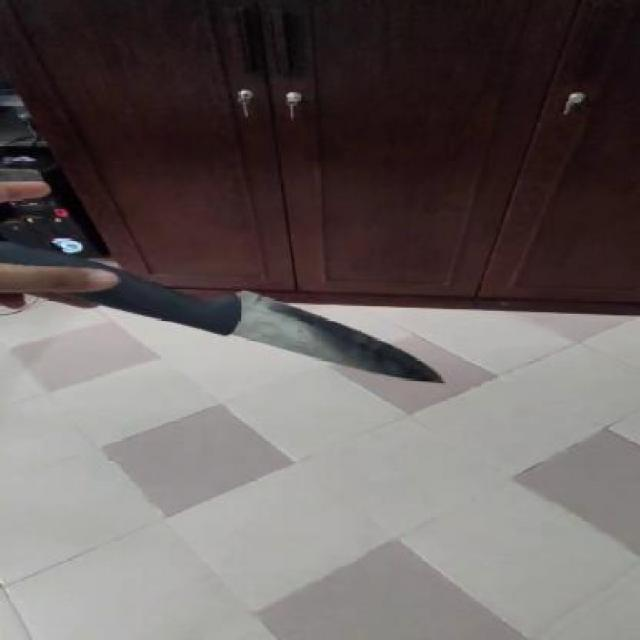-: (166, 265, 449, 396)
